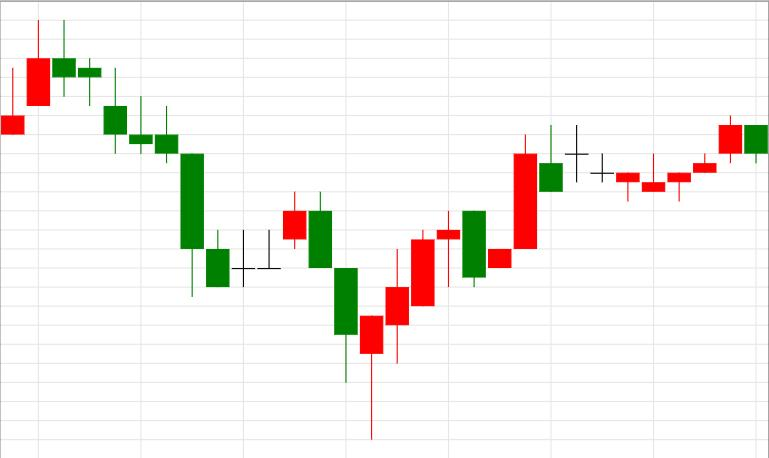bearish_engulfing_fall: (361, 211, 486, 439)
hammer_rise: (283, 191, 384, 440)
